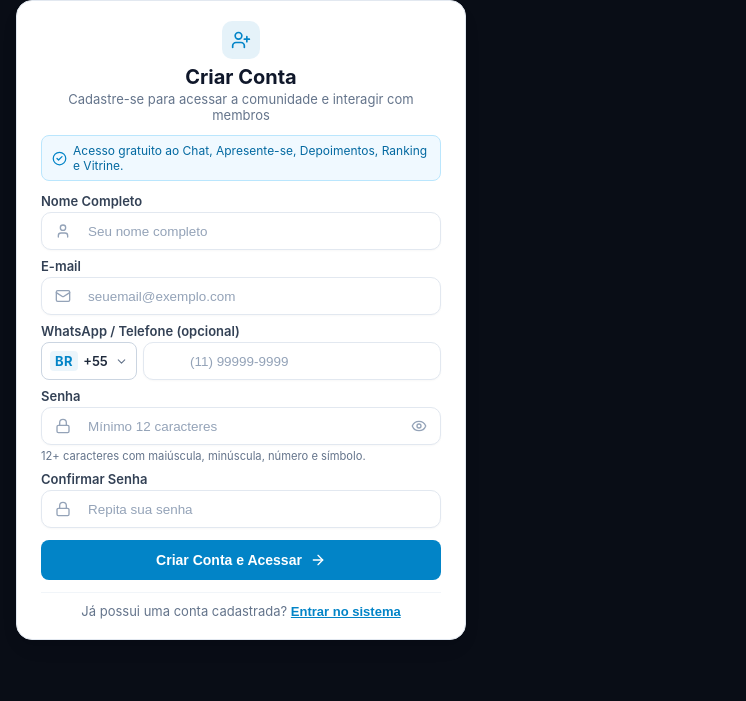
Test case: PublicRegisterCard Component › shows error if password has fewer than 12 characters
Type "Aluno Teste" into the field with test id "register-name-input" at x=241, y=231, box [41,212,441,250]
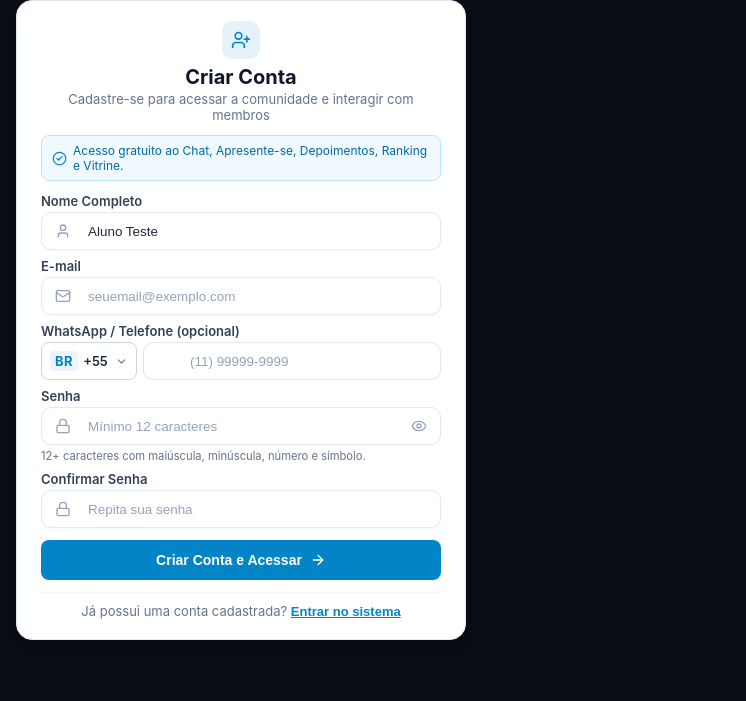
Type "aluno@teste.com" into the field with test id "register-email-input" at x=241, y=296, box [41,277,441,315]
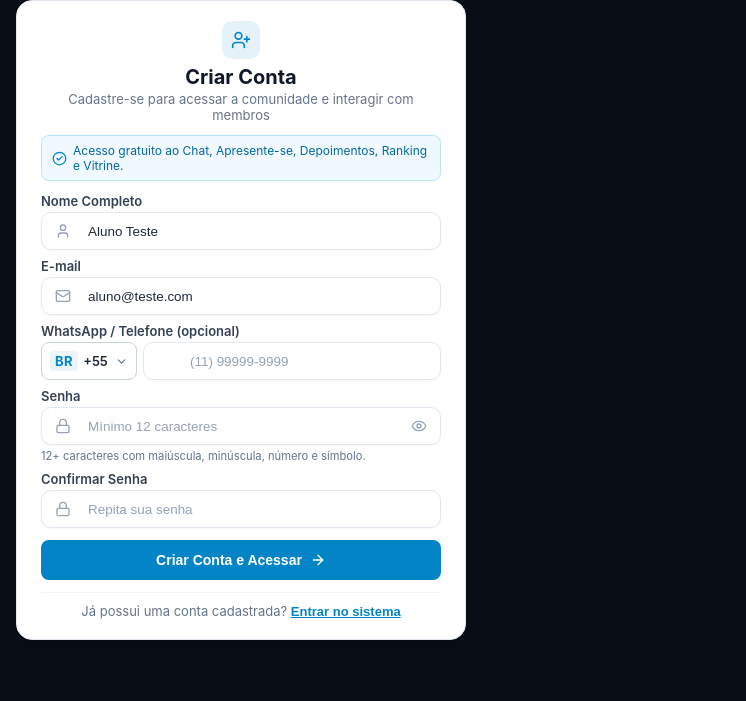
Type "Curta1!" into the password field with test id "register-password-input" at x=241, y=426, box [41,407,441,445]
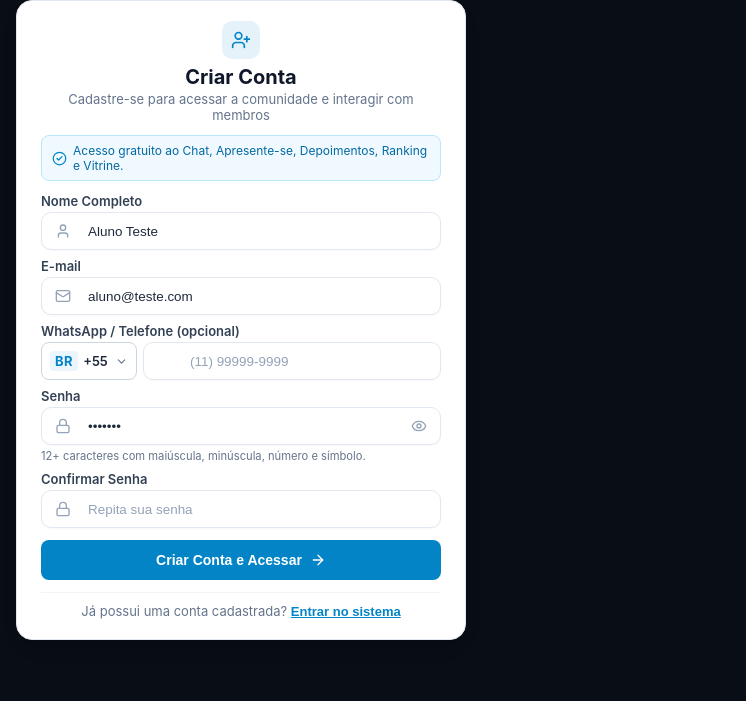
Type "Curta1!" into the password field with test id "register-confirm-password-input" at x=241, y=509, box [41,490,441,528]
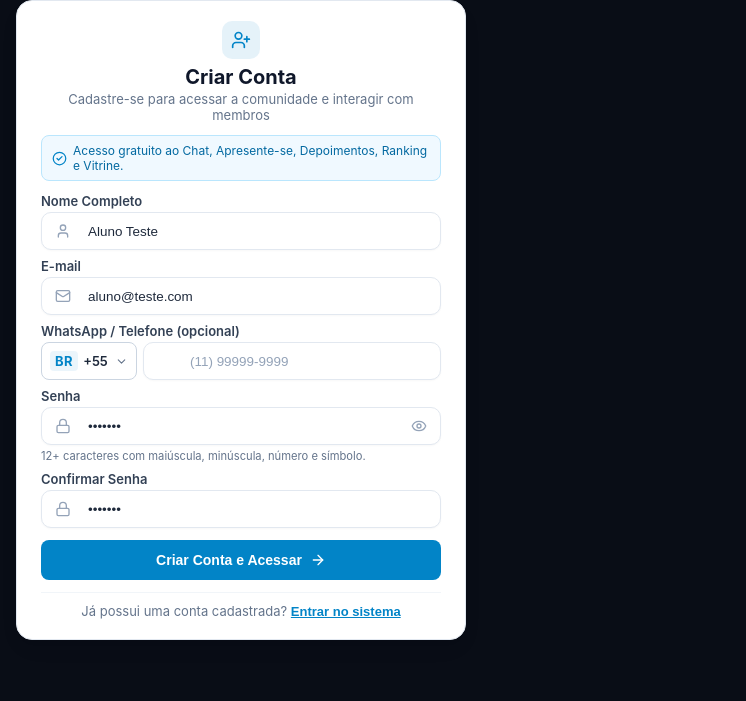
Click the button with test id "register-submit-btn" at x=241, y=560, box [41,540,441,580]
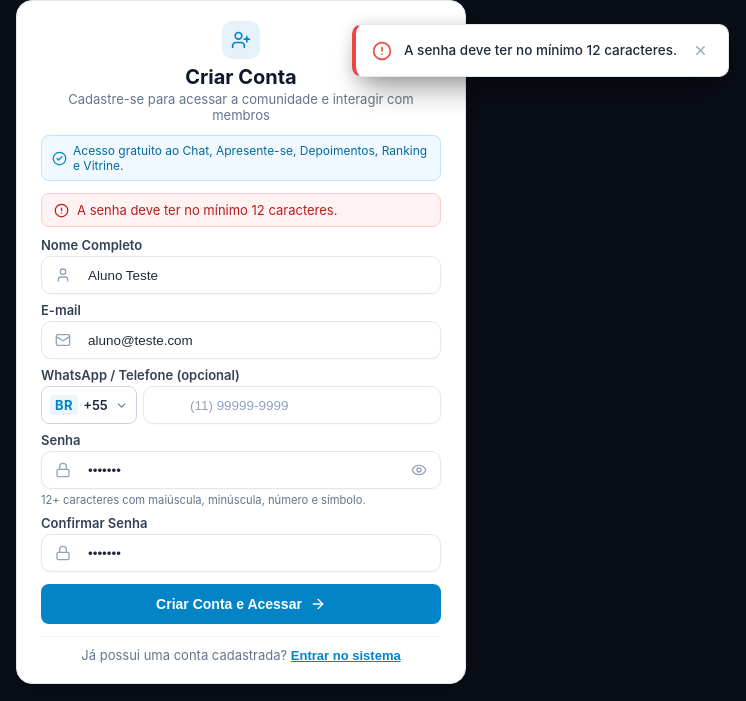
Expected: the element with test id "register-error" reads "A senha deve ter no mínimo 12 caracteres.", [77,202,338,218]
